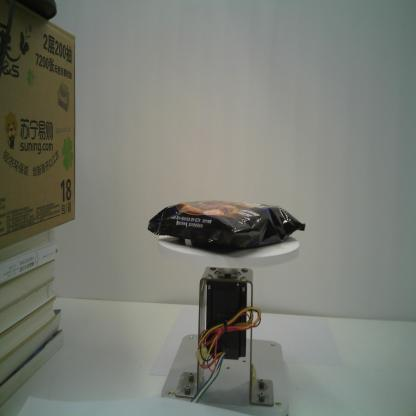Instant Noodles: (146, 200, 305, 251)
